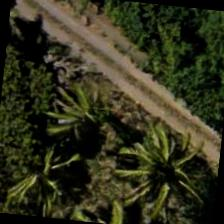Kelapa_Sawit: (38, 61, 138, 160), (110, 126, 210, 223), (0, 125, 93, 222)
